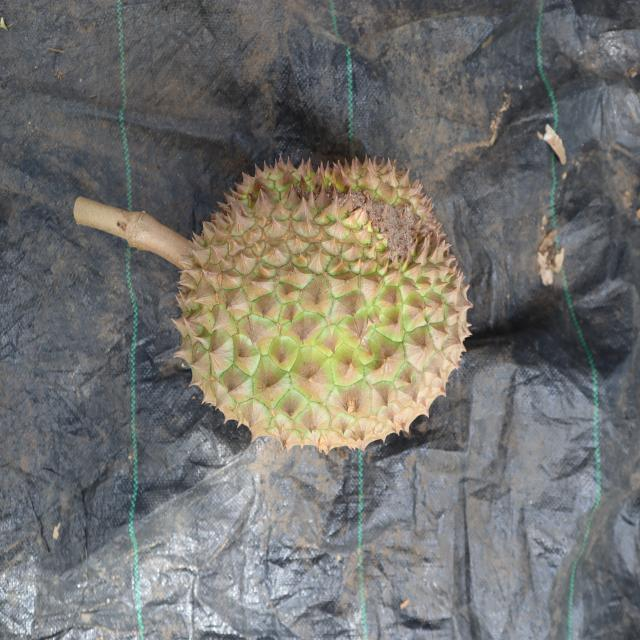mature: (171, 152, 475, 463)
